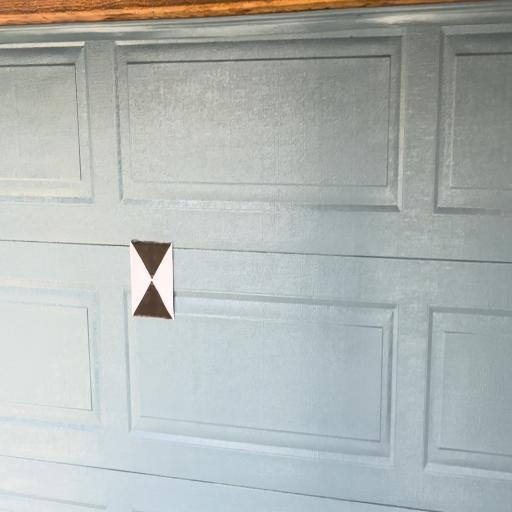target: (130, 241, 175, 316)
